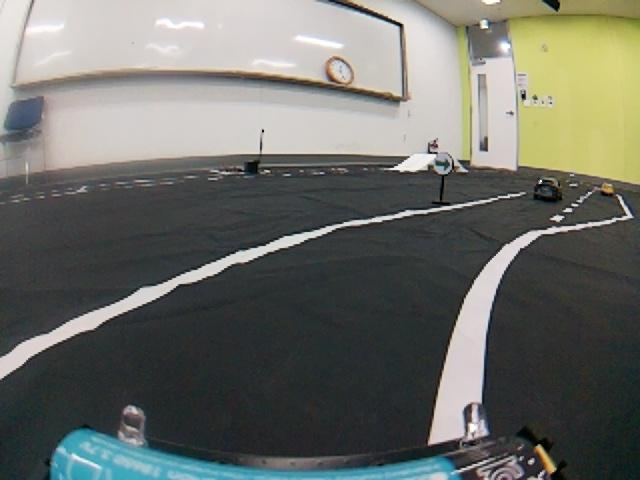car: (529, 169, 569, 211), (593, 173, 624, 199)
sign_right: (423, 143, 460, 176)
straight: (0, 238, 640, 480)
